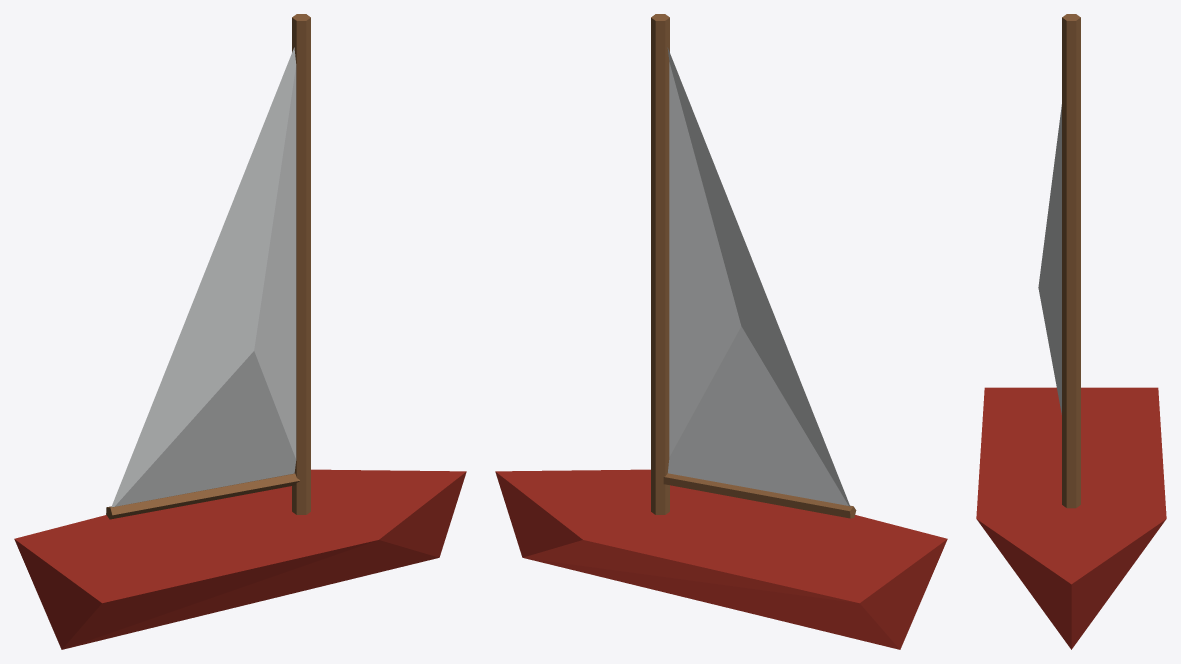
Rendered from sailboat-3ee283.glb.
3 views of the same model, side by side, from view 1: azimuth 30°, elevation 25°; view 2: azimuth 150°, elevation 25°; view 3: azimuth 270°, elevation 25° (orthographic).
Size of the model in its own units: 0.2235 by 0.3 by 0.0914.
